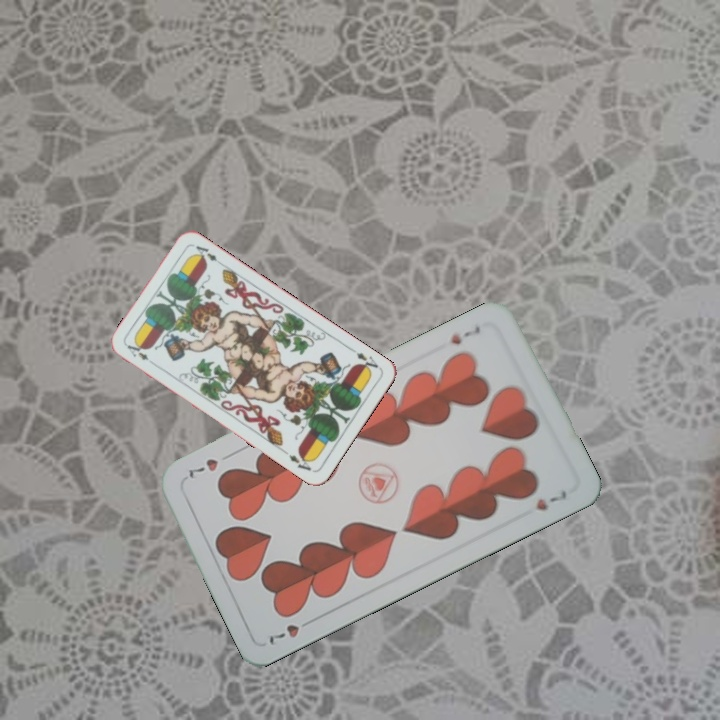EA: (346, 344, 381, 375), (123, 339, 158, 368)
H7: (265, 614, 316, 648), (446, 322, 483, 348)
